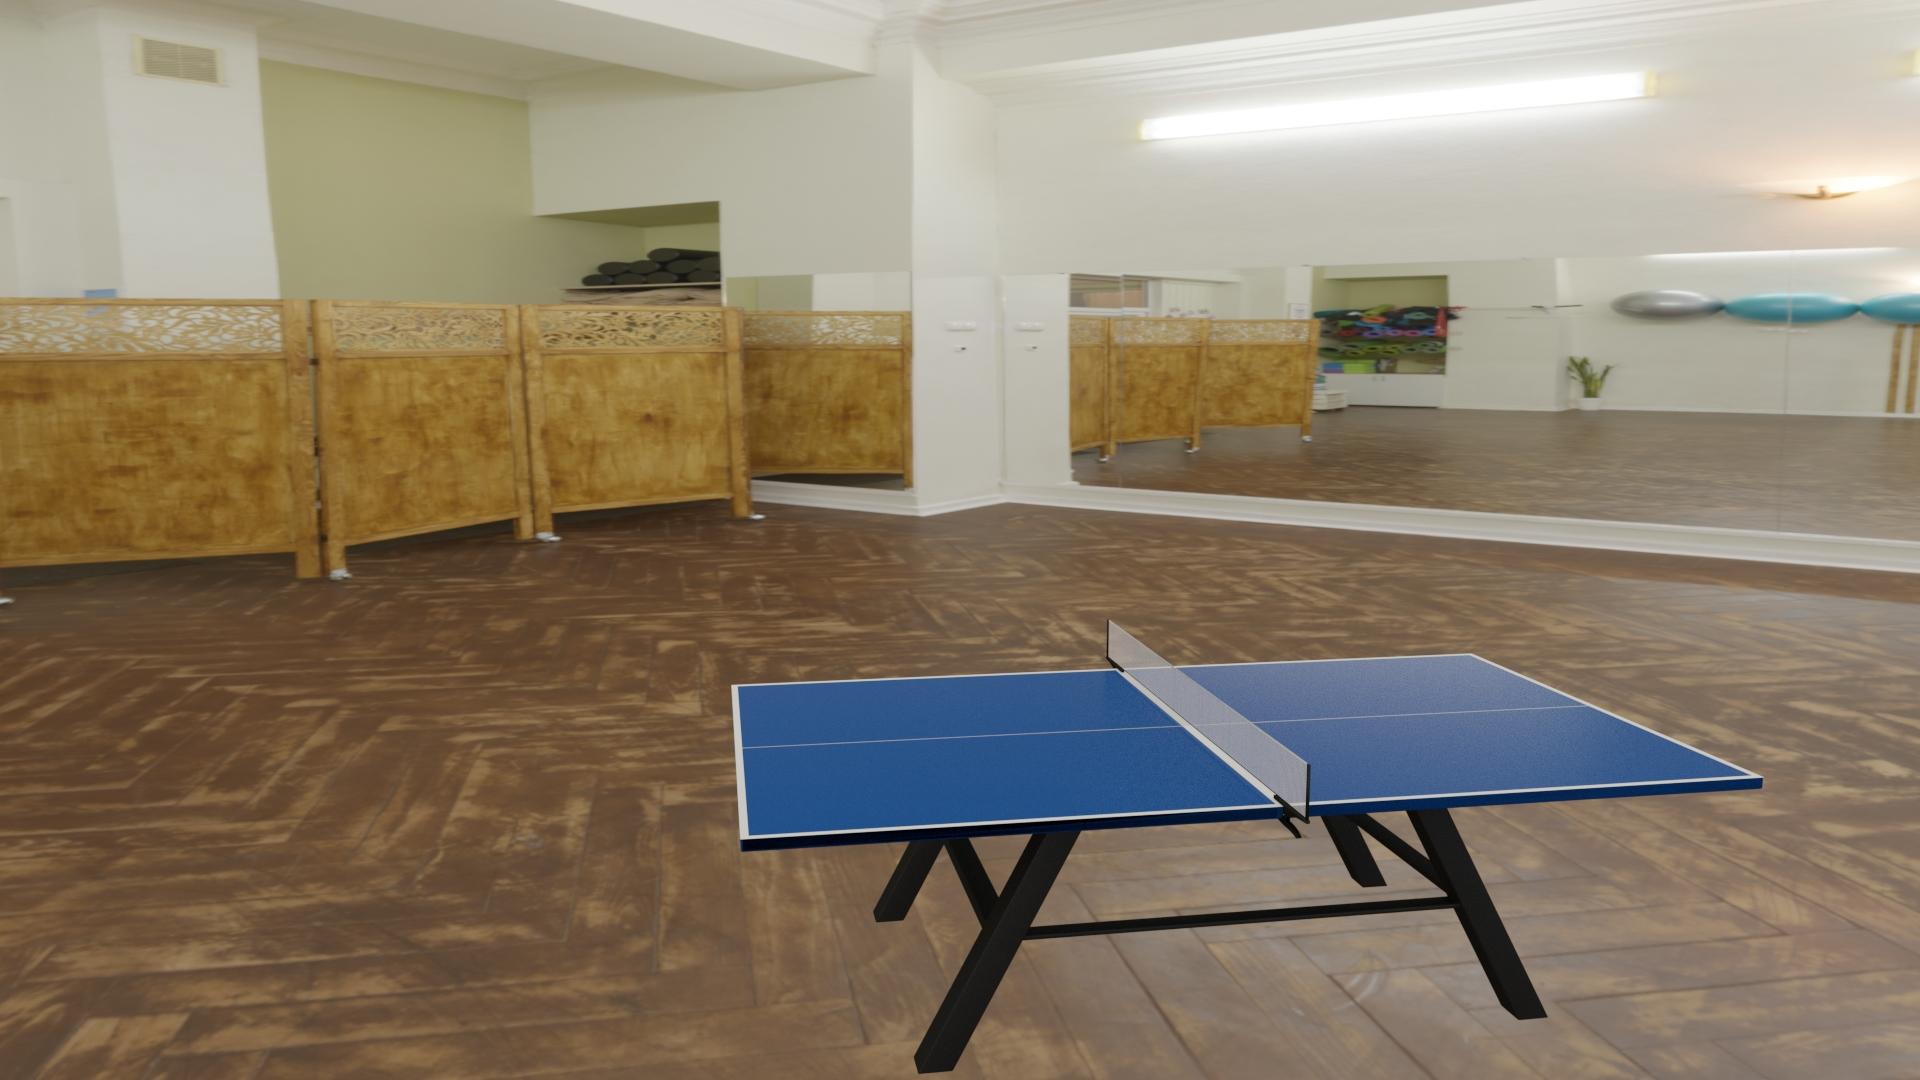table: (737, 655, 1753, 836)
